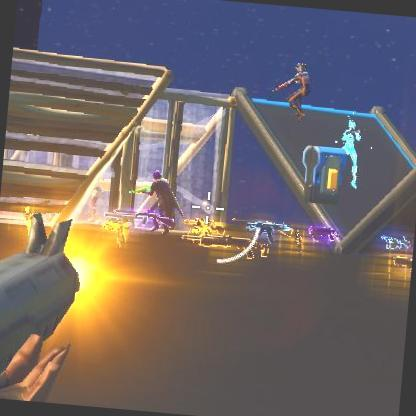person: (132, 168, 188, 224), (268, 61, 315, 123)
